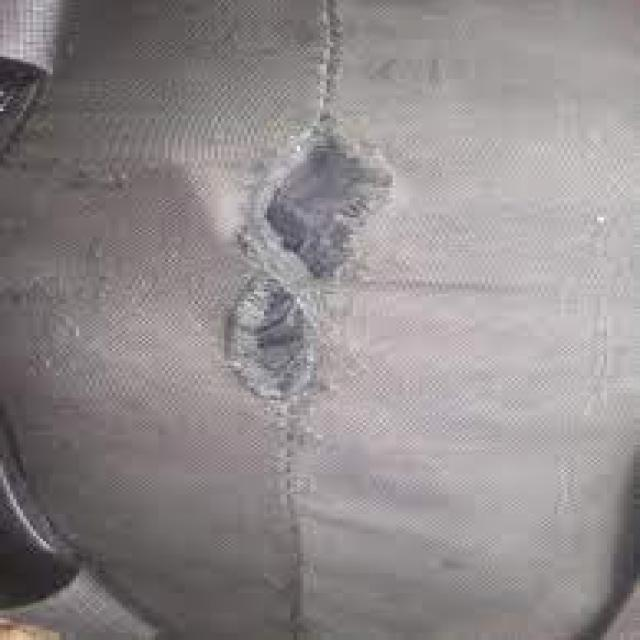Damage-bag: (225, 0, 394, 640)
